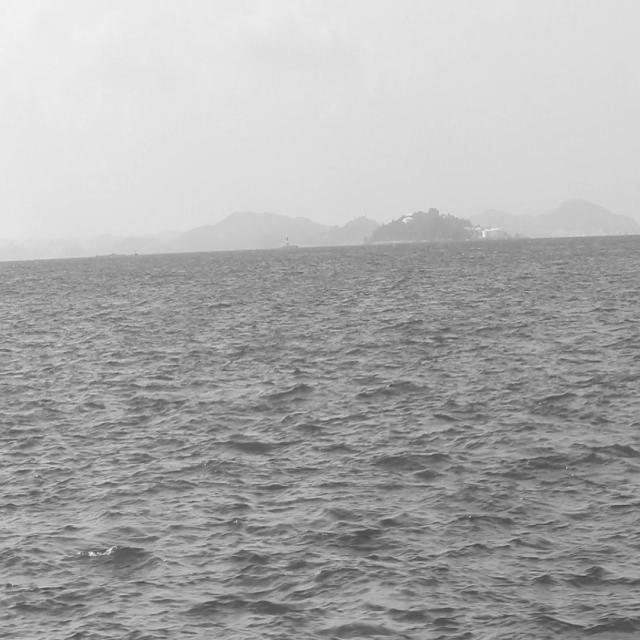ship: (278, 228, 298, 252)
